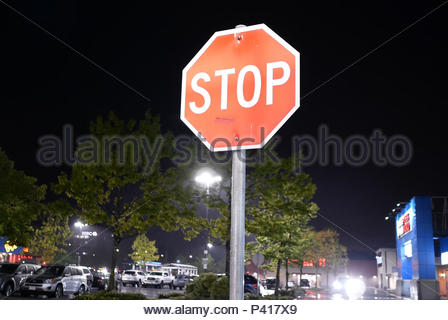stopsign: (179, 23, 301, 151)
